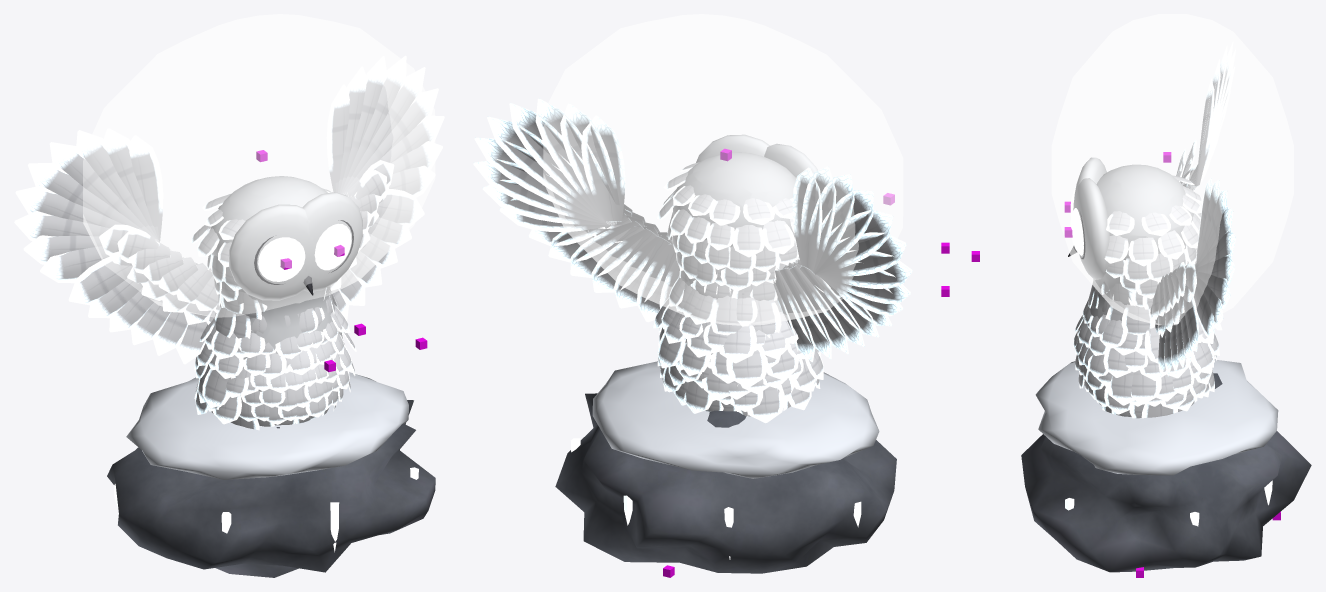
Rendered from 07_civetta_bufera.glb.
The picture shows the model from 3 angles, left to right: view 1: azimuth 30°, elevation 25°; view 2: azimuth 150°, elevation 25°; view 3: azimuth 270°, elevation 25°; orthographic projection. The views are drawn at different scales.
Visible parts, largest first — view 1: Civetta__Lampo_Bufera, Civetta__Roccia, Civetta__Piuma_Cristallo__Ala_L, Civetta__Piuma_Cristallo__Ala_R, Civetta__Neve, Civetta__Piuma_Petto, Civetta__Piuma_Cristallo, Civetta__Disco_Facciale, Civetta__Piumino, Civetta__Occhio_Faro, Civetta__Ghiaccioli; view 2: Civetta__Lampo_Bufera, Civetta__Roccia, Civetta__Piuma_Cristallo, Civetta__Piuma_Cristallo__Ala_R, Civetta__Neve, Civetta__Piuma_Cristallo__Ala_L, Civetta__Piumino, Civetta__Disco_Facciale, Civetta__Ghiaccioli; view 3: Civetta__Lampo_Bufera, Civetta__Roccia, Civetta__Neve, Civetta__Piuma_Cristallo, Civetta__Piuma_Cristallo__Ala_R, Civetta__Piumino, Civetta__Disco_Facciale, Civetta__Piuma_Cristallo__Ala_L, Civetta__Piuma_Petto, Civetta__Occhio_Faro.
Boxes of the visible parts, box(x1,y1,x2,y2) form: Civetta__Lampo_Bufera: box(83, 14, 435, 317); Civetta__Roccia: box(107, 400, 435, 577); Civetta__Piuma_Cristallo__Ala_L: box(14, 128, 219, 364); Civetta__Piuma_Cristallo__Ala_R: box(326, 55, 444, 321); Civetta__Neve: box(126, 372, 408, 479); Civetta__Piuma_Petto: box(231, 287, 351, 426); Civetta__Piuma_Cristallo: box(190, 188, 356, 430); Civetta__Disco_Facciale: box(229, 192, 362, 300); Civetta__Piumino: box(210, 176, 342, 399); Civetta__Occhio_Faro: box(258, 224, 351, 281); Civetta__Ghiaccioli: box(114, 467, 418, 552); Civetta__Lampo_Bufera: box(543, 14, 903, 325); Civetta__Roccia: box(555, 393, 896, 573); Civetta__Piuma_Cristallo: box(652, 162, 823, 423); Civetta__Piuma_Cristallo__Ala_R: box(473, 98, 679, 322); Civetta__Neve: box(592, 361, 879, 478); Civetta__Piuma_Cristallo__Ala_L: box(773, 166, 912, 362); Civetta__Piumino: box(673, 152, 795, 311); Civetta__Disco_Facciale: box(696, 134, 817, 177); Civetta__Ghiaccioli: box(570, 438, 861, 559); Civetta__Lampo_Bufera: box(1051, 14, 1293, 325); Civetta__Roccia: box(1021, 373, 1311, 572); Civetta__Neve: box(1035, 359, 1278, 475); Civetta__Piuma_Cristallo: box(1096, 175, 1222, 418); Civetta__Piuma_Cristallo__Ala_R: box(1150, 178, 1235, 376); Civetta__Piumino: box(1088, 164, 1193, 320); Civetta__Disco_Facciale: box(1073, 157, 1109, 279); Civetta__Piuma_Cristallo__Ala_L: box(1176, 42, 1235, 190); Civetta__Piuma_Petto: box(1073, 281, 1111, 406); Civetta__Occhio_Faro: box(1070, 188, 1083, 255).
Bounding box in the file's own units: 5.31 × 6.29 × 4.06.
12 materials, 3 textured.
